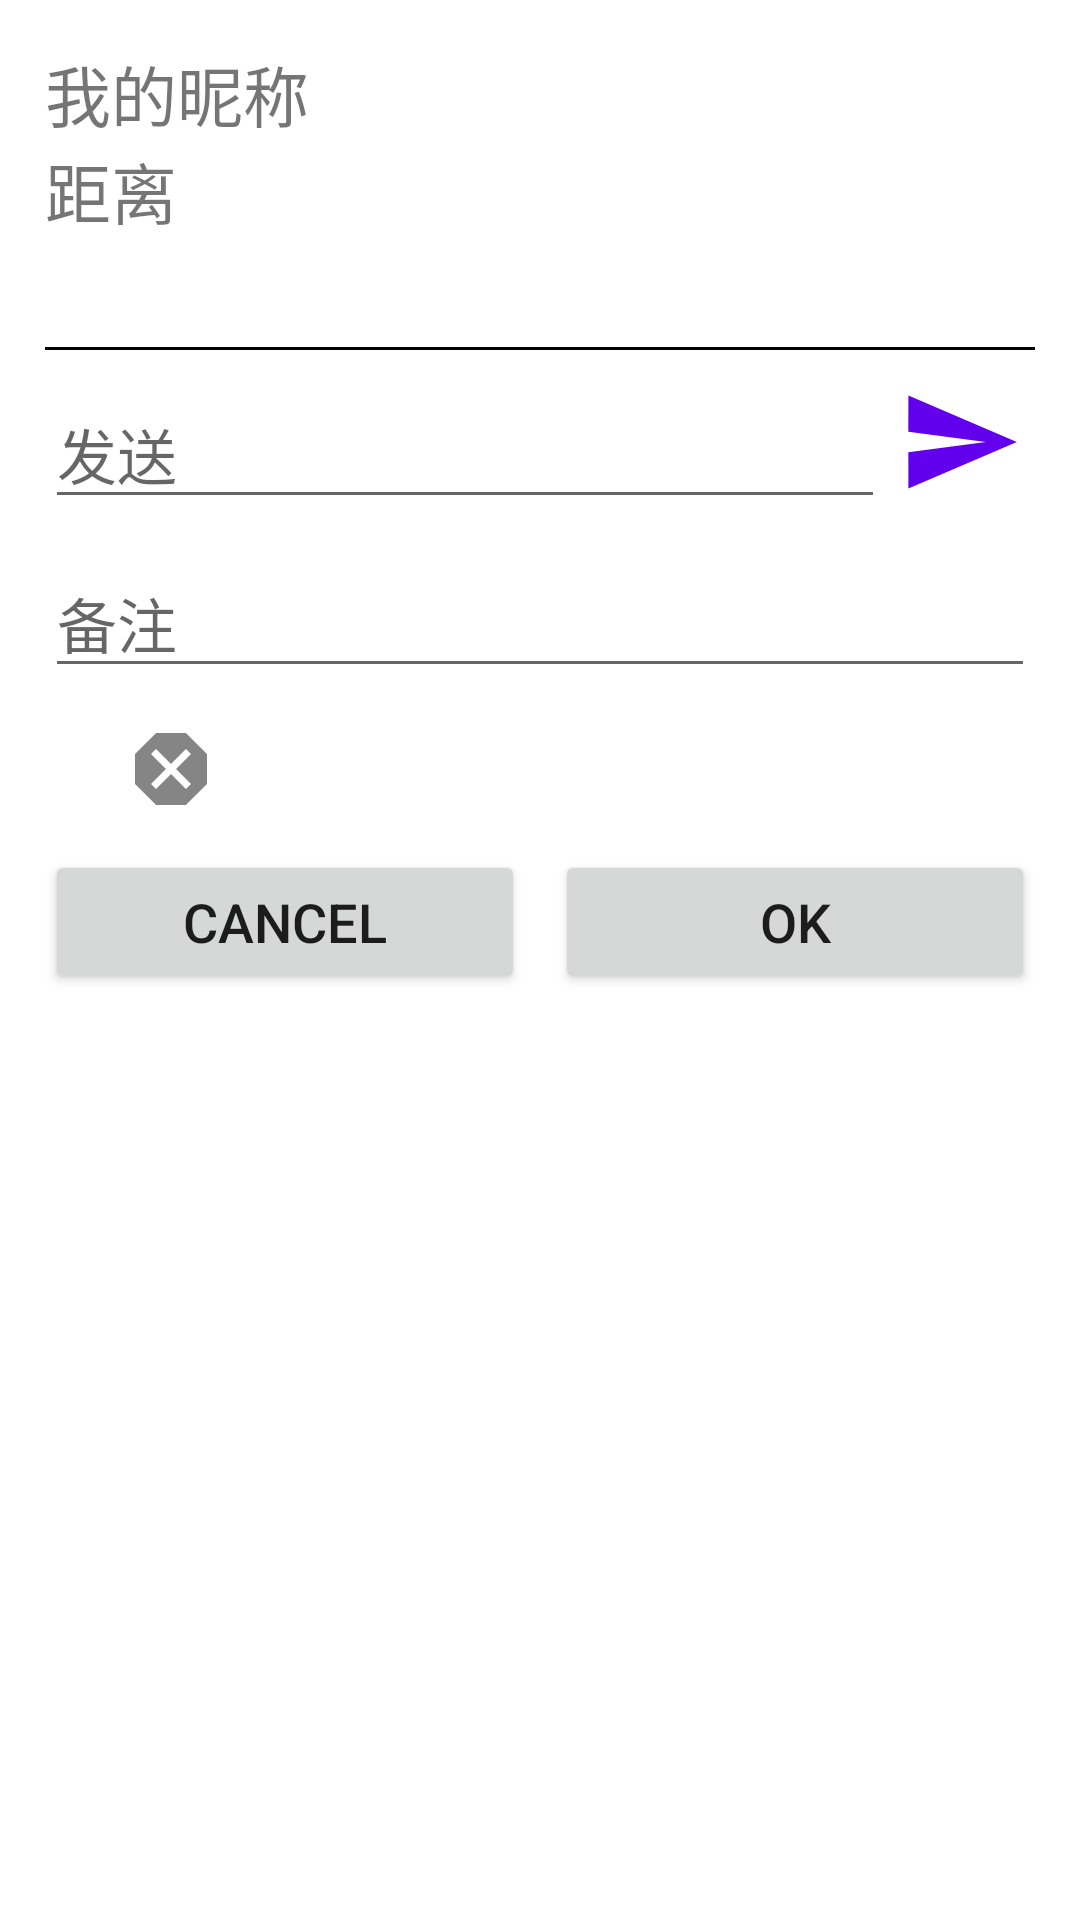

Icons on this 1080px x 1920px Android screen, each with the point to tap as point (x, y):
blacklist off: point (171, 769)
send: point (962, 442)
